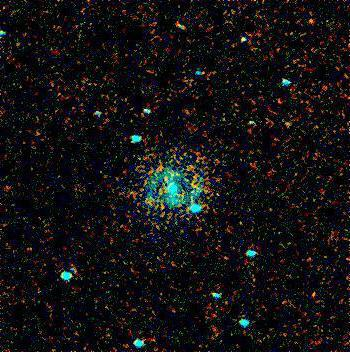star: (297, 7, 327, 37)
